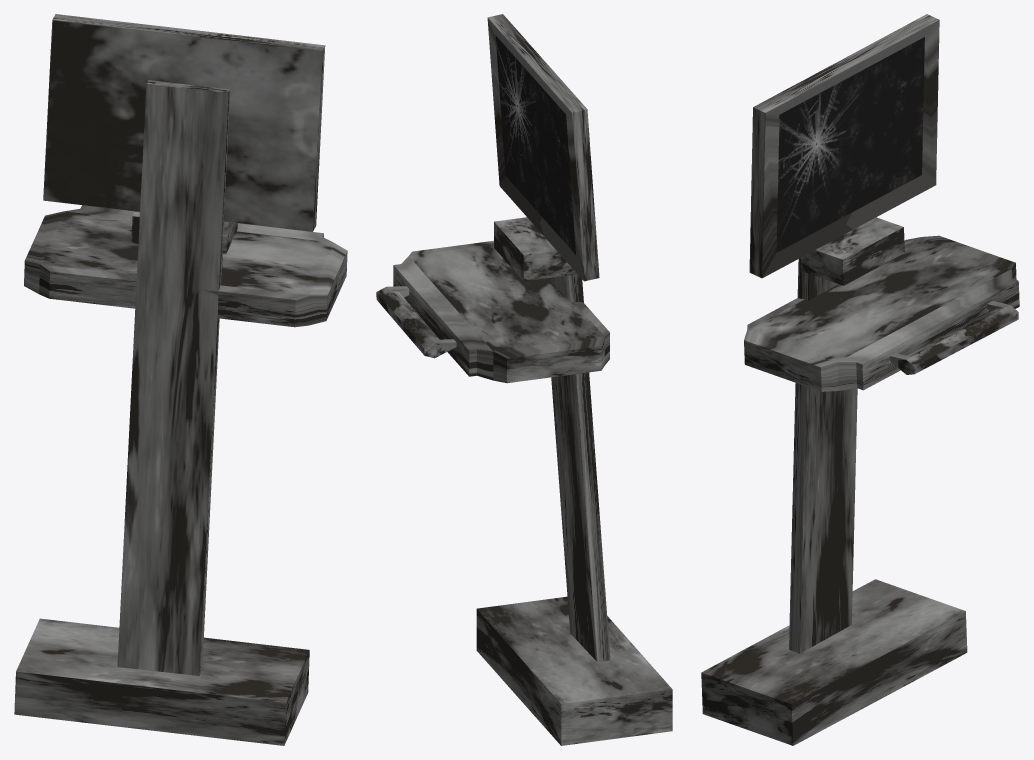
File: Computer.fbx
3 renders of one model, left to right at view 1: azimuth 30°, elevation 25°; view 2: azimuth 150°, elevation 25°; view 3: azimuth 270°, elevation 25°, orthographic. The views are drawn at different scales.
Parts seen in each view (by area): view 1: pCube20; view 2: pCube20; view 3: pCube20.
Boxes of the visible parts, x1=… form: pCube20: x1=14, y1=14, x2=347, y2=745; pCube20: x1=376, y1=14, x2=672, y2=745; pCube20: x1=701, y1=14, x2=1019, y2=745.
Bounding box in the file's own units: 2.36 × 4.97 × 2.22.
Materials: 2 (2 with a texture image).
